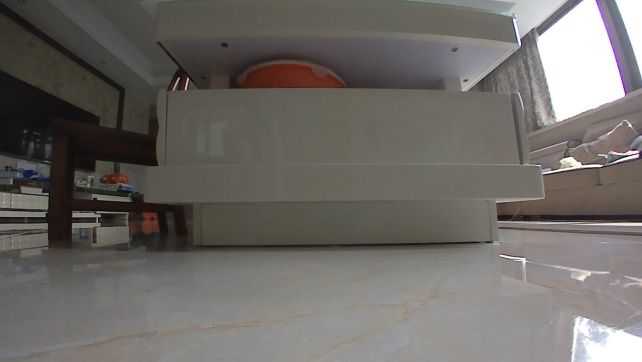sofa1: (500, 108, 641, 223)
tea_table1: (138, 0, 554, 252)
